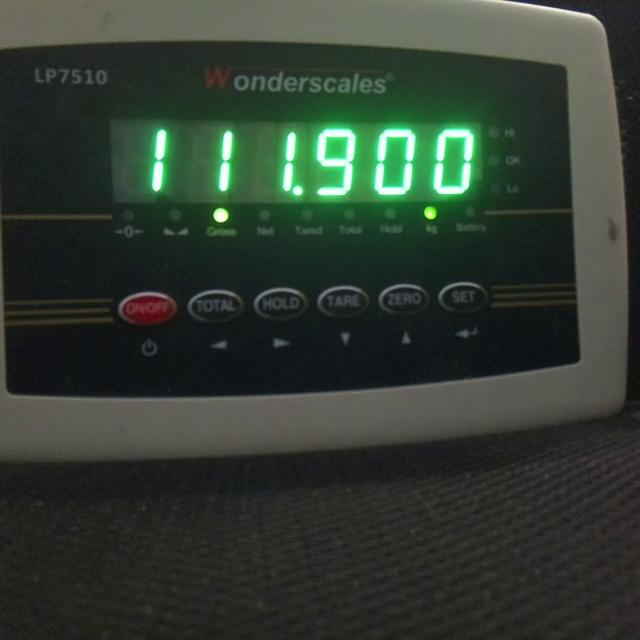.: (289, 183, 305, 200)
0: (374, 128, 416, 194), (433, 128, 474, 194)
1: (282, 130, 299, 193), (151, 129, 167, 191), (218, 130, 234, 192)
9: (314, 127, 356, 196)
